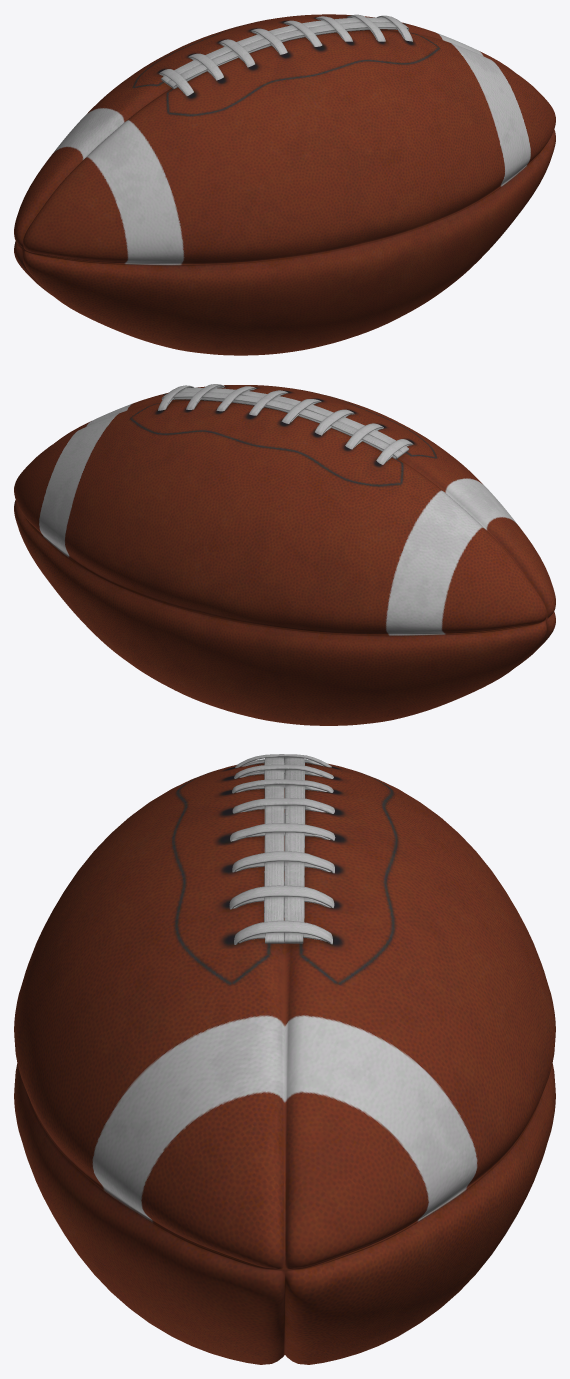
Rendered from americanfootball.fbx.
3 renders of one model, top to bottom at view 1: azimuth 30°, elevation 25°; view 2: azimuth 150°, elevation 25°; view 3: azimuth 270°, elevation 25°, orthographic. The views are drawn at different scales.
Parts seen in each view (by area): view 1: node_id30; view 2: node_id30; view 3: node_id30.
Boxes of the visible parts, x1,y1,x2,y2 form: node_id30: (14, 14, 555, 355); node_id30: (14, 384, 555, 725); node_id30: (14, 754, 555, 1364).
Size of the model in its own units: 0.512 by 0.2809 by 0.2801.
1 material, 1 textured.
